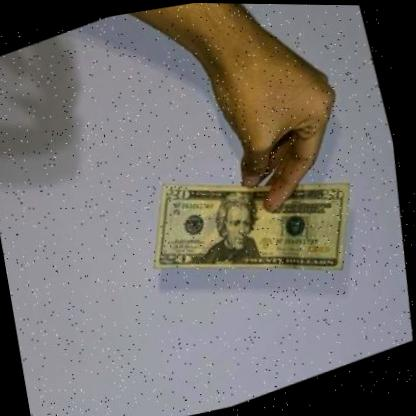twenty-front: (121, 115, 389, 342)
